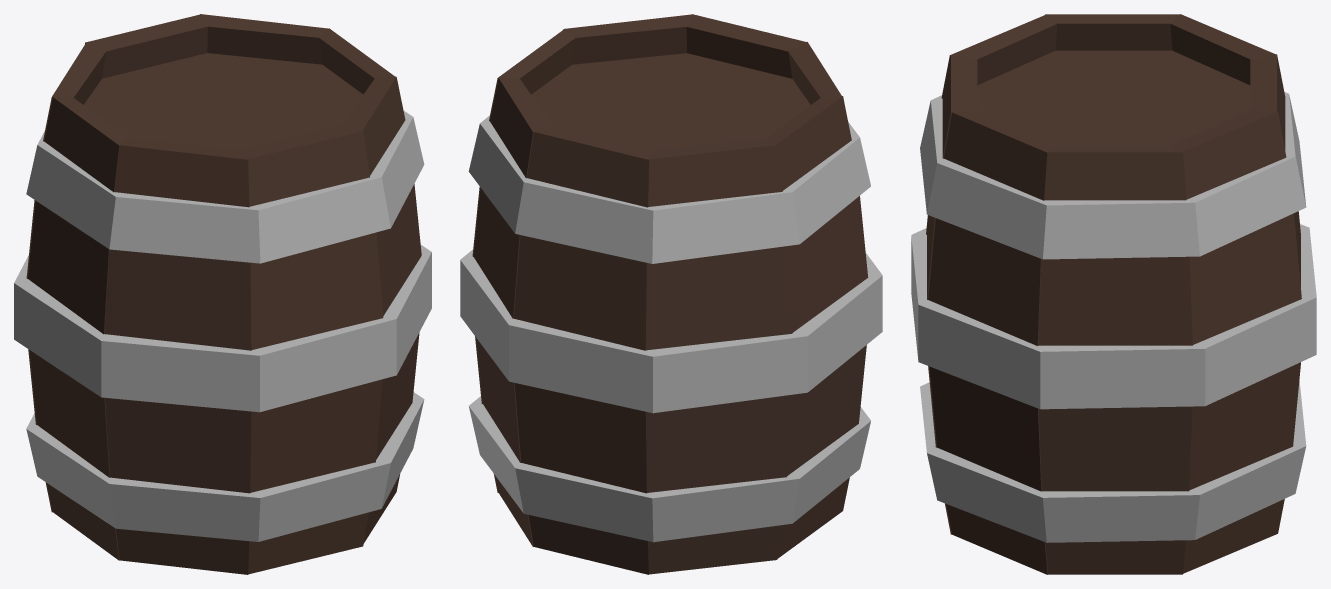
Rendered from BurrelCrushed.fbx.
The picture shows the model from 3 angles, left to right: view 1: azimuth 30°, elevation 25°; view 2: azimuth 150°, elevation 25°; view 3: azimuth 270°, elevation 25°; orthographic projection.
Visible parts, largest first — view 1: polySurface164.002, polySurface178.002, polySurface174.003, polySurface166.002, polySurface159.002, polySurface177.002, polySurface176.002, polySurface161.002, polySurface167.002, polySurface170.003, polySurface175.003, polySurface160.002 (+6 smaller); view 2: polySurface162.002, polySurface173.003, polySurface174.003, polySurface166.002, polySurface177.002, polySurface172.002, polySurface158.002, polySurface163.002, polySurface171.003, polySurface176.002, polySurface161.002, polySurface167.002 (+6 smaller); view 3: polySurface169.003, polySurface170.003, polySurface167.002, polySurface171.003, polySurface177.002, polySurface174.003, polySurface158.002, polySurface160.002, polySurface164.002, polySurface172.002, polySurface178.002, polySurface163.002 (+2 smaller).
Part boxes in pixels (bbox=[...]): polySurface164.002: bbox=[104, 138, 251, 469]; polySurface178.002: bbox=[241, 125, 383, 439]; polySurface174.003: bbox=[84, 53, 363, 149]; polySurface166.002: bbox=[14, 255, 303, 412]; polySurface159.002: bbox=[26, 413, 390, 541]; polySurface177.002: bbox=[207, 111, 424, 263]; polySurface176.002: bbox=[26, 131, 212, 258]; polySurface161.002: bbox=[29, 275, 119, 560]; polySurface167.002: bbox=[271, 245, 431, 400]; polySurface170.003: bbox=[342, 76, 421, 543]; polySurface175.003: bbox=[248, 436, 377, 574]; polySurface160.002: bbox=[28, 97, 128, 282]; polySurface162.002: bbox=[514, 259, 649, 574]; polySurface173.003: bbox=[646, 278, 792, 574]; polySurface174.003: bbox=[531, 53, 810, 149]; polySurface166.002: bbox=[581, 253, 882, 413]; polySurface177.002: bbox=[468, 115, 708, 263]; polySurface172.002: bbox=[647, 138, 792, 323]; polySurface158.002: bbox=[469, 396, 721, 542]; polySurface163.002: bbox=[518, 125, 653, 289]; polySurface171.003: bbox=[473, 78, 551, 546]; polySurface176.002: bbox=[704, 122, 870, 256]; polySurface161.002: bbox=[777, 221, 868, 558]; polySurface167.002: bbox=[460, 249, 613, 397]; polySurface169.003: bbox=[1038, 145, 1192, 574]; polySurface170.003: bbox=[928, 110, 1056, 574]; polySurface167.002: bbox=[912, 244, 1316, 409]; polySurface171.003: bbox=[1171, 110, 1301, 573]; polySurface177.002: bbox=[920, 92, 1306, 259]; polySurface174.003: bbox=[977, 50, 1250, 145]; polySurface158.002: bbox=[927, 380, 1306, 542]; polySurface160.002: bbox=[1045, 14, 1179, 50]; polySurface164.002: bbox=[926, 15, 1057, 234]; polySurface172.002: bbox=[1170, 14, 1275, 84]; polySurface178.002: bbox=[927, 55, 977, 420]; polySurface163.002: bbox=[1250, 54, 1295, 225].
Bounding box in the file's own units: 121 × 139 × 121.
